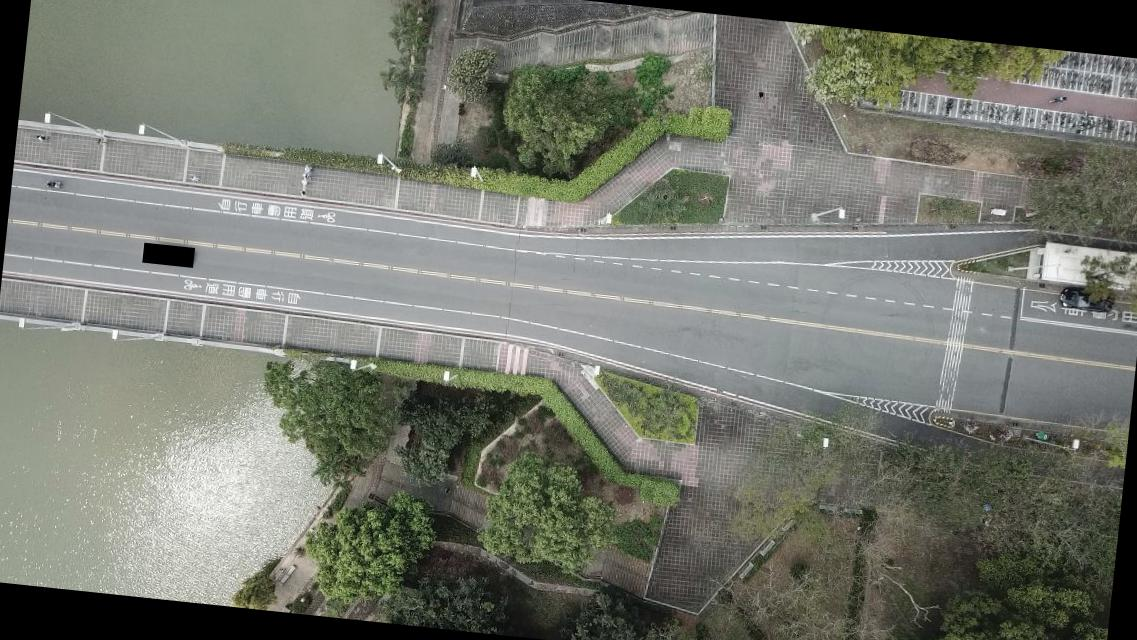vehicle: (1058, 286, 1116, 314)
